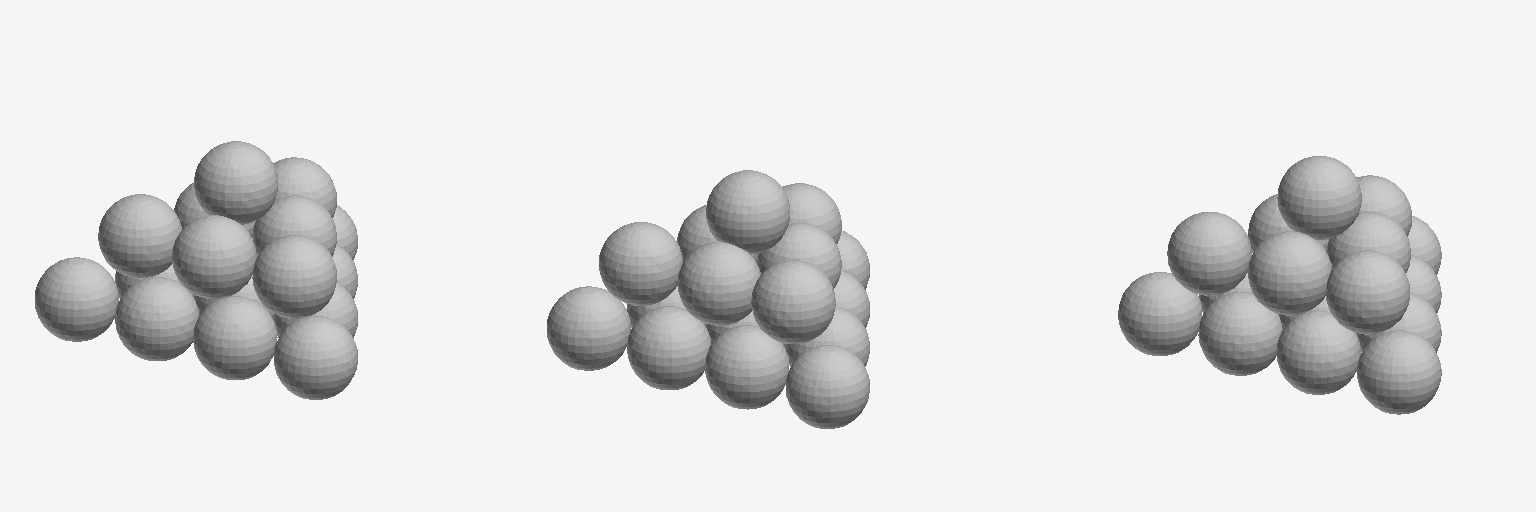
File: estructura hexagonal compacta ABA.obj.obj
The picture shows the model from 3 angles: view 1: azimuth 30°, elevation 25°; view 2: azimuth 150°, elevation 25°; view 3: azimuth 270°, elevation 25°; orthographic projection.
Visible parts, largest first — view 1: Sphere.439_Sphere.001, Sphere.446_Sphere.001, Sphere.450_Sphere.001, Sphere.441_Sphere.001, Sphere.451_Sphere.001, Sphere.442_Sphere.001, Sphere.454_Sphere.001, Sphere.452_Sphere.001, Sphere.448_Sphere.001, Sphere.449_Sphere.001, Sphere.435_Sphere.001, Sphere.453_Sphere.001 (+2 smaller); view 2: Sphere.446_Sphere.001, Sphere.452_Sphere.001, Sphere.443_Sphere.001, Sphere.449_Sphere.001, Sphere.445_Sphere.001, Sphere.444_Sphere.001, Sphere.454_Sphere.001, Sphere.453_Sphere.001, Sphere.451_Sphere.001, Sphere.450_Sphere.001, Sphere.442_Sphere.001, Sphere.441_Sphere.001 (+3 smaller); view 3: Sphere.443_Sphere.001, Sphere.449_Sphere.001, Sphere.450_Sphere.001, Sphere.454_Sphere.001, Sphere.448_Sphere.001, Sphere.438_Sphere.001, Sphere.439_Sphere.001, Sphere.435_Sphere.001, Sphere.453_Sphere.001, Sphere.452_Sphere.001, Sphere.444_Sphere.001, Sphere.451_Sphere.001 (+2 smaller).
Part boxes in pixels (left/top/right/bottom): Sphere.439_Sphere.001: left=274, top=316, right=357, bottom=399; Sphere.446_Sphere.001: left=35, top=257, right=118, bottom=341; Sphere.450_Sphere.001: left=252, top=235, right=336, bottom=318; Sphere.441_Sphere.001: left=193, top=296, right=277, bottom=379; Sphere.451_Sphere.001: left=172, top=215, right=256, bottom=298; Sphere.442_Sphere.001: left=115, top=277, right=198, bottom=360; Sphere.454_Sphere.001: left=194, top=141, right=277, bottom=224; Sphere.452_Sphere.001: left=98, top=194, right=181, bottom=277; Sphere.448_Sphere.001: left=252, top=195, right=336, bottom=256; Sphere.449_Sphere.001: left=273, top=157, right=336, bottom=217; Sphere.435_Sphere.001: left=274, top=282, right=357, bottom=337; Sphere.453_Sphere.001: left=174, top=183, right=255, bottom=236; Sphere.446_Sphere.001: left=786, top=345, right=869, bottom=428; Sphere.452_Sphere.001: left=751, top=260, right=835, bottom=343; Sphere.443_Sphere.001: left=547, top=286, right=630, bottom=370; Sphere.449_Sphere.001: left=599, top=222, right=682, bottom=305; Sphere.445_Sphere.001: left=705, top=325, right=788, bottom=409; Sphere.444_Sphere.001: left=627, top=306, right=710, bottom=389; Sphere.454_Sphere.001: left=706, top=170, right=789, bottom=254; Sphere.453_Sphere.001: left=678, top=241, right=760, bottom=325; Sphere.451_Sphere.001: left=757, top=222, right=841, bottom=288; Sphere.450_Sphere.001: left=783, top=183, right=841, bottom=243; Sphere.442_Sphere.001: left=785, top=306, right=869, bottom=366; Sphere.441_Sphere.001: left=834, top=270, right=869, bottom=327; Sphere.443_Sphere.001: left=1357, top=330, right=1441, bottom=414; Sphere.449_Sphere.001: left=1326, top=250, right=1409, bottom=334; Sphere.450_Sphere.001: left=1167, top=212, right=1251, bottom=295; Sphere.454_Sphere.001: left=1277, top=156, right=1361, bottom=239; Sphere.448_Sphere.001: left=1248, top=231, right=1331, bottom=315; Sphere.438_Sphere.001: left=1277, top=310, right=1360, bottom=394; Sphere.439_Sphere.001: left=1118, top=272, right=1201, bottom=355; Sphere.435_Sphere.001: left=1198, top=292, right=1282, bottom=375; Sphere.453_Sphere.001: left=1327, top=212, right=1410, bottom=272; Sphere.452_Sphere.001: left=1357, top=175, right=1411, bottom=236; Sphere.444_Sphere.001: left=1357, top=292, right=1441, bottom=352; Sphere.451_Sphere.001: left=1248, top=194, right=1328, bottom=252.
Bounding box in the file's own units: 1.65 × 0.972 × 1.48.